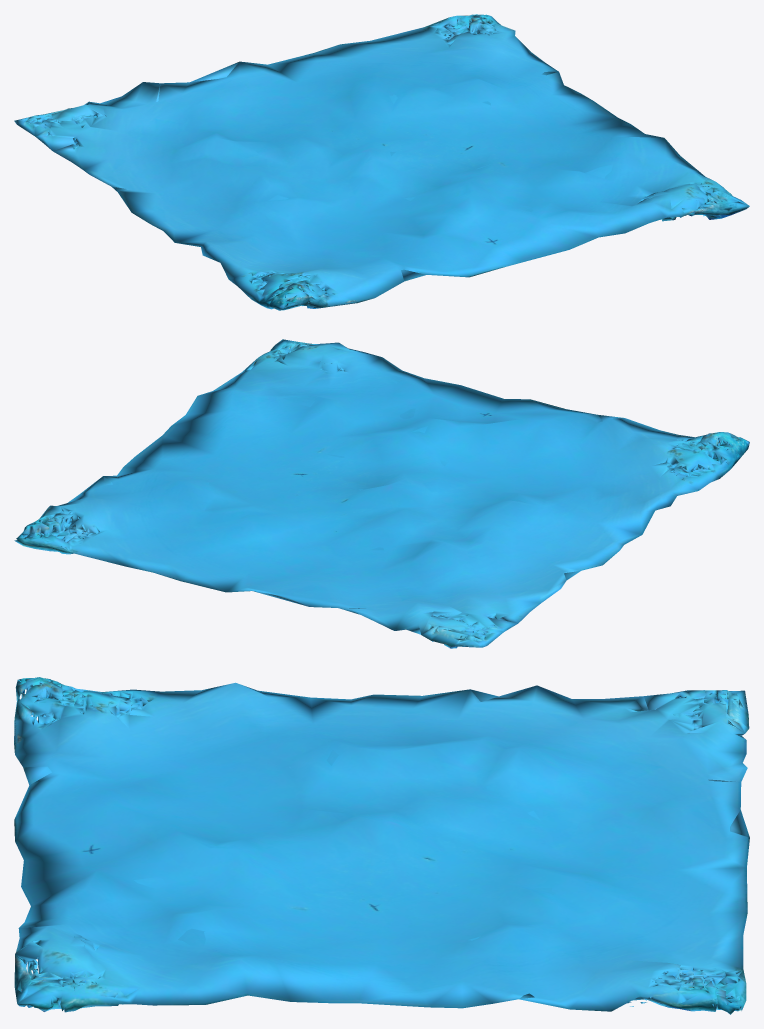
Rendered from Ocean.glb.
The picture shows the model from 3 angles, top to bottom: view 1: azimuth 30°, elevation 25°; view 2: azimuth 150°, elevation 25°; view 3: azimuth 270°, elevation 25°; orthographic projection. The views are drawn at different scales.
Bounding box in the file's own units: 2.01 × 0.1258 × 2.01.
1 material, 1 textured.
